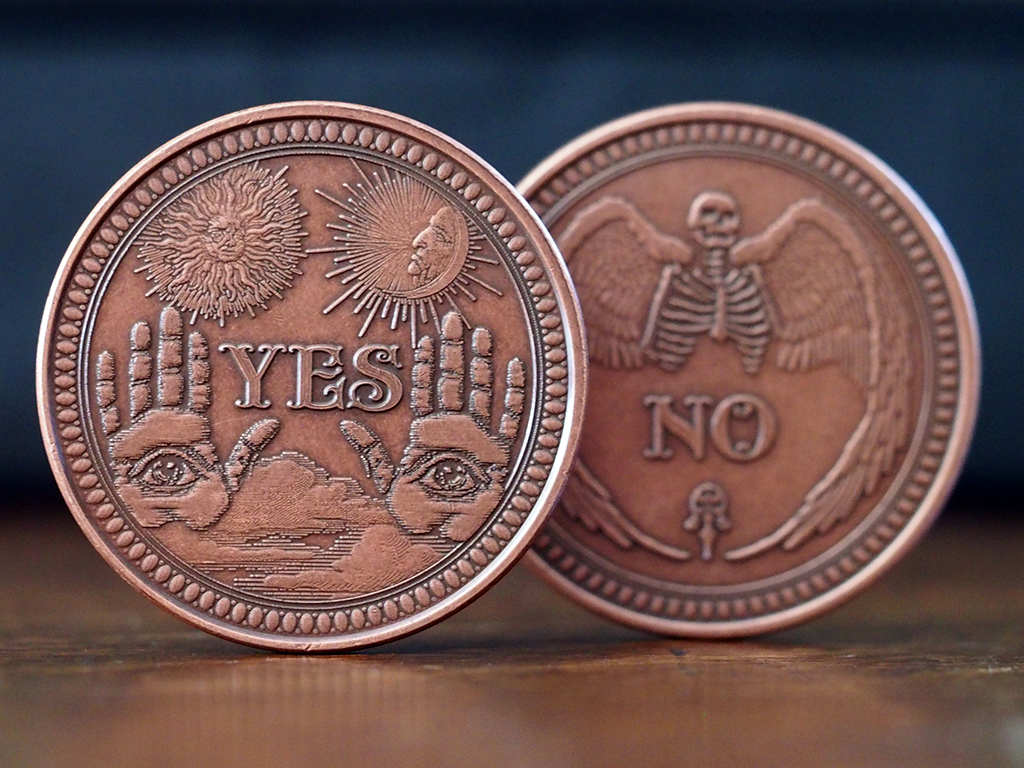norust: (32, 106, 1024, 768)
